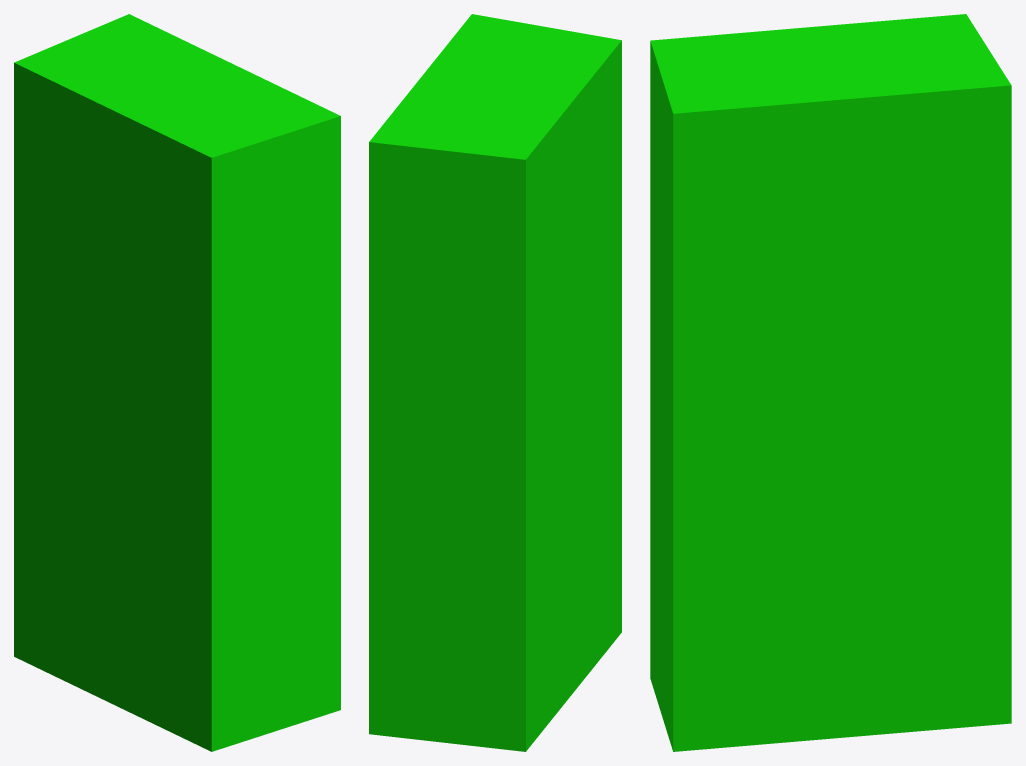
3 views of the same model, side by side, from view 1: azimuth 30°, elevation 25°; view 2: azimuth 150°, elevation 25°; view 3: azimuth 270°, elevation 25° (orthographic). The views are drawn at different scales.
Visible parts, largest first — view 1: Circle.026; view 2: Circle.026; view 3: Circle.026.
Part boxes in pixels (bbox=[...]): Circle.026: bbox=[14, 14, 340, 751]; Circle.026: bbox=[369, 14, 621, 751]; Circle.026: bbox=[650, 14, 1011, 751].
Bounding box in the file's own units: 686 × 2044 × 1049.
